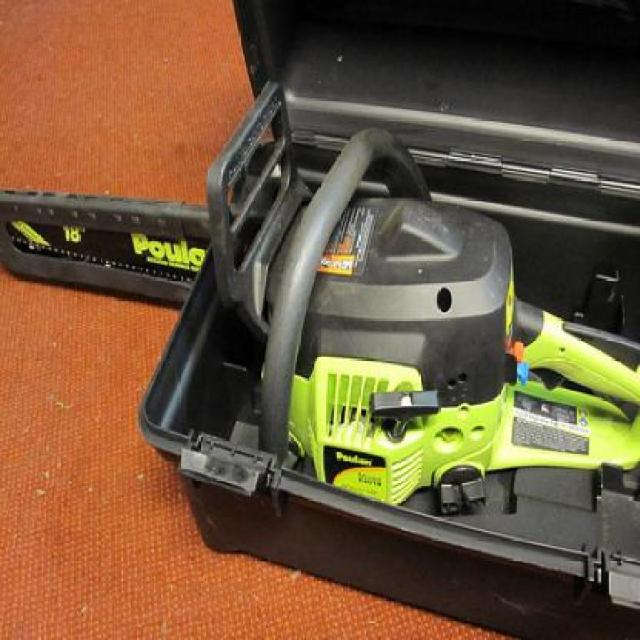Chainsaw: (0, 80, 638, 511)
